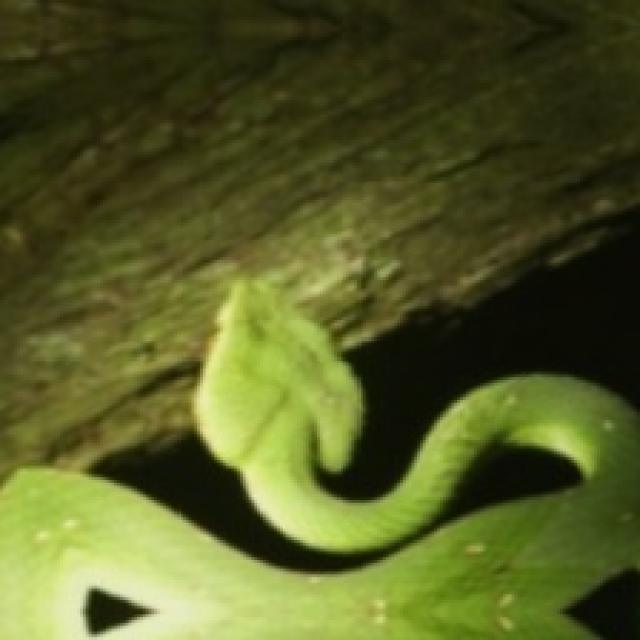north ph temple pitviper: (0, 280, 637, 637), (194, 280, 637, 551), (434, 443, 583, 526)
